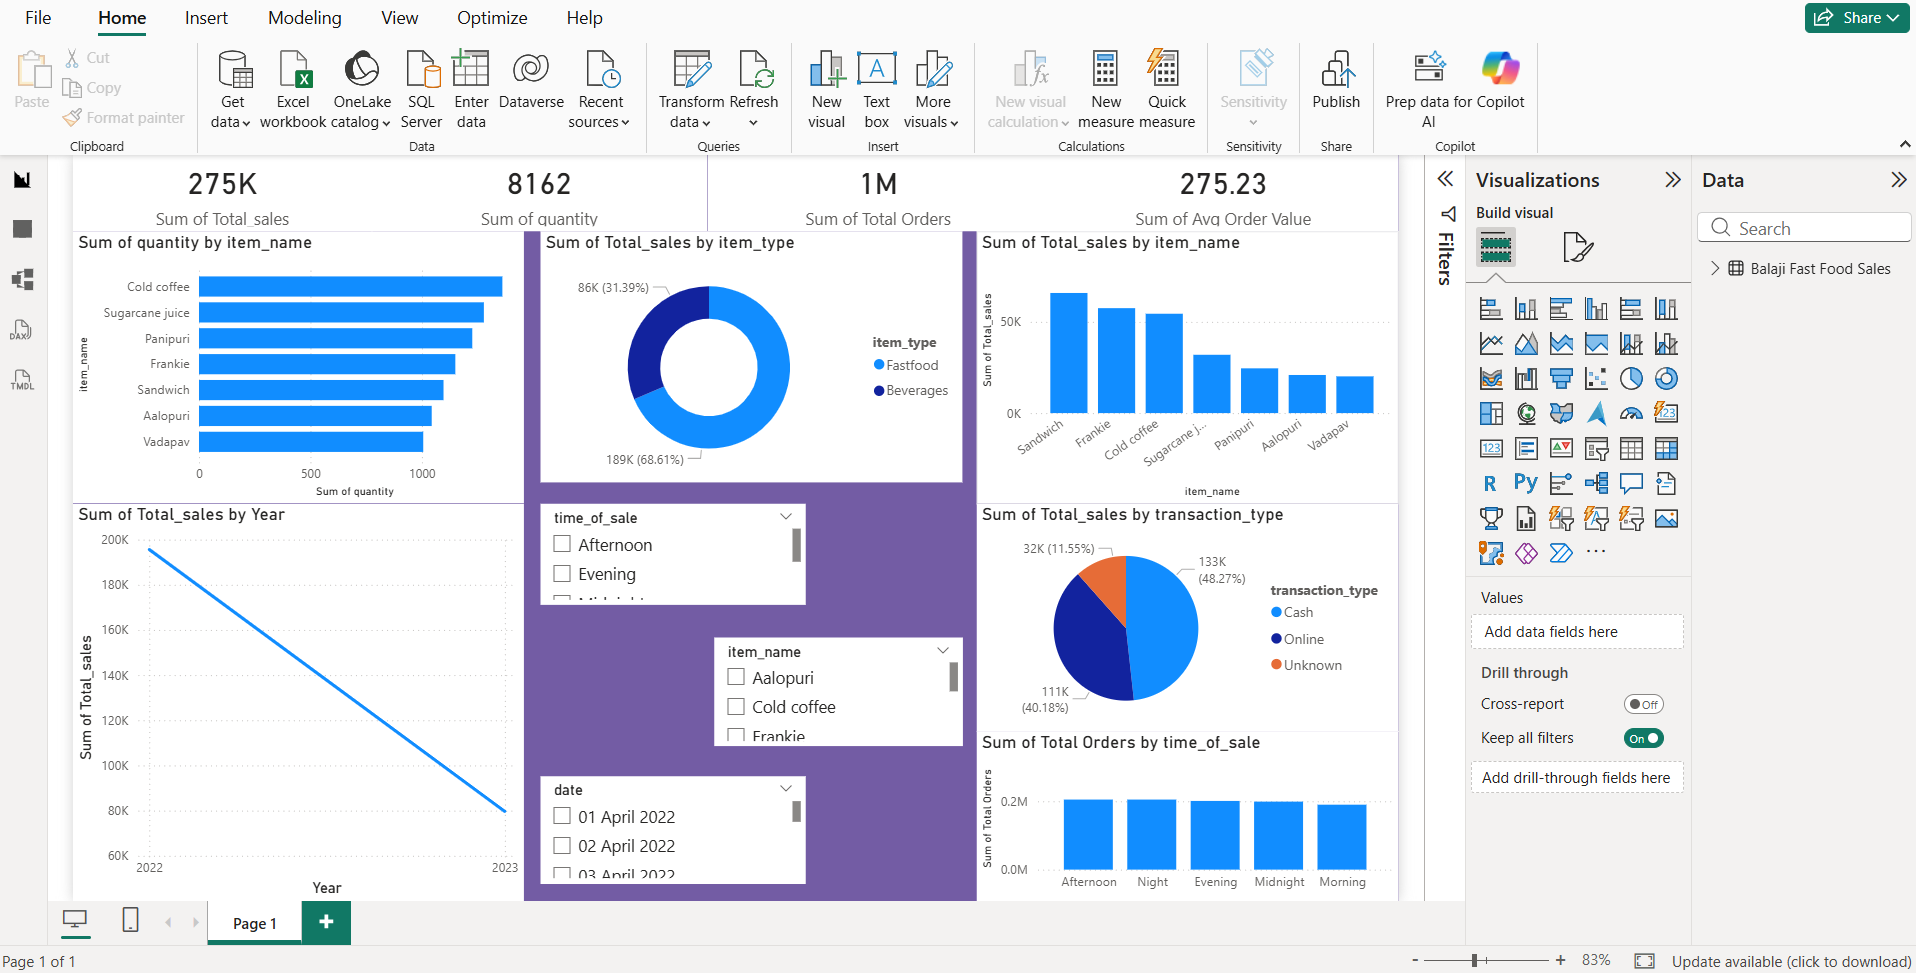

The page's visual inventory and layout, read from the dashboard file:
{"tool":"powerbi","page":{"name":"Page 1","canvas":[1280,720],"ordinal":0},"visuals":[{"type":"lineChart","fields":{"Category":["Balaji Fast Food Sales.date.Variation.Date Hierarchy.Year","Balaji Fast Food Sales.date.Variation.Date Hierarchy.Quarter","Balaji Fast Food Sales.date.Variation.Date Hierarchy.Month","Balaji Fast Food Sales.date.Variation.Date Hierarchy.Day"],"Y":["Sum(Balaji Fast Food Sales.Total_sales)"]},"box":[0,336.2,435,383.8],"z":0},{"type":"barChart","fields":{"Category":["Balaji Fast Food Sales.item_name"],"Y":["Sum(Balaji Fast Food Sales.quantity)"]},"box":[0,73.8,435,262.5],"z":1000},{"type":"clusteredColumnChart","fields":{"Category":["Balaji Fast Food Sales.item_name"],"Y":["Sum(Balaji Fast Food Sales.Total_sales)"]},"box":[872.5,73.8,407.5,262.5],"z":2000},{"type":"card","fields":{"Values":["Sum(Balaji Fast Food Sales.quantity)"]},"box":[288.8,0,323.8,73.8],"z":3000},{"type":"card","fields":{"Values":["Sum(Balaji Fast Food Sales.Total_sales)"]},"box":[0,0,288.8,73.8],"z":4000},{"type":"columnChart","fields":{"Category":["Balaji Fast Food Sales.time_of_sale"],"Y":["Sum(Balaji Fast Food Sales.Total Orders)"]},"box":[872.5,556.2,407.5,163.8],"z":5000},{"type":"pieChart","fields":{"Category":["Balaji Fast Food Sales.transaction_type"],"Y":["Sum(Balaji Fast Food Sales.Total_sales)"]},"box":[872.5,336.2,407.5,220],"z":5001},{"type":"card","fields":{"Values":["Sum(Balaji Fast Food Sales.Total Orders)"]},"box":[612.5,0,328.8,73.8],"z":5003},{"type":"card","fields":{"Values":["Sum(Balaji Fast Food Sales.Avg Order Value)"]},"box":[941.2,0,338.8,73.8],"z":5004},{"type":"donutChart","fields":{"Category":["Balaji Fast Food Sales.item_type"],"Y":["Sum(Balaji Fast Food Sales.Total_sales)"]},"box":[451.2,73.8,407.5,242.5],"z":5005},{"type":"slicer","fields":{"Values":["Balaji Fast Food Sales.date"]},"box":[451.2,600,256.2,103.8],"z":5006},{"type":"slicer","fields":{"Values":["Balaji Fast Food Sales.item_name"]},"box":[618.8,466.2,240,105],"z":5007},{"type":"slicer","fields":{"Values":["Balaji Fast Food Sales.time_of_sale"]},"box":[451.2,336.2,256.2,97.5],"z":5008}]}

Visuals, with their boxes on the page's 1280x720 design canvas (x1, y1, x2, y2). These are canvas units, not pixel positions in the 1916x973 screenshot, which may show the page scaled, cropped or inside an application window:
lineChart - Balaji Fast Food Sales.date.Variation.Date Hierarchy.Year x Balaji Fast Food Sales.date.Variation.Date Hierarchy.Quarter: Rect(0, 336, 435, 720)
barChart - Balaji Fast Food Sales.item_name x Sum(Balaji Fast Food Sales.quantity): Rect(0, 74, 435, 336)
clusteredColumnChart - Balaji Fast Food Sales.item_name x Sum(Balaji Fast Food Sales.Total_sales): Rect(872, 74, 1280, 336)
card - Sum(Balaji Fast Food Sales.quantity): Rect(289, 0, 613, 74)
card - Sum(Balaji Fast Food Sales.Total_sales): Rect(0, 0, 289, 74)
columnChart - Balaji Fast Food Sales.time_of_sale x Sum(Balaji Fast Food Sales.Total Orders): Rect(872, 556, 1280, 720)
pieChart - Balaji Fast Food Sales.transaction_type x Sum(Balaji Fast Food Sales.Total_sales): Rect(872, 336, 1280, 556)
card - Sum(Balaji Fast Food Sales.Total Orders): Rect(612, 0, 941, 74)
card - Sum(Balaji Fast Food Sales.Avg Order Value): Rect(941, 0, 1280, 74)
donutChart - Balaji Fast Food Sales.item_type x Sum(Balaji Fast Food Sales.Total_sales): Rect(451, 74, 859, 316)
slicer - Balaji Fast Food Sales.date: Rect(451, 600, 707, 704)
slicer - Balaji Fast Food Sales.item_name: Rect(619, 466, 859, 571)
slicer - Balaji Fast Food Sales.time_of_sale: Rect(451, 336, 707, 434)
